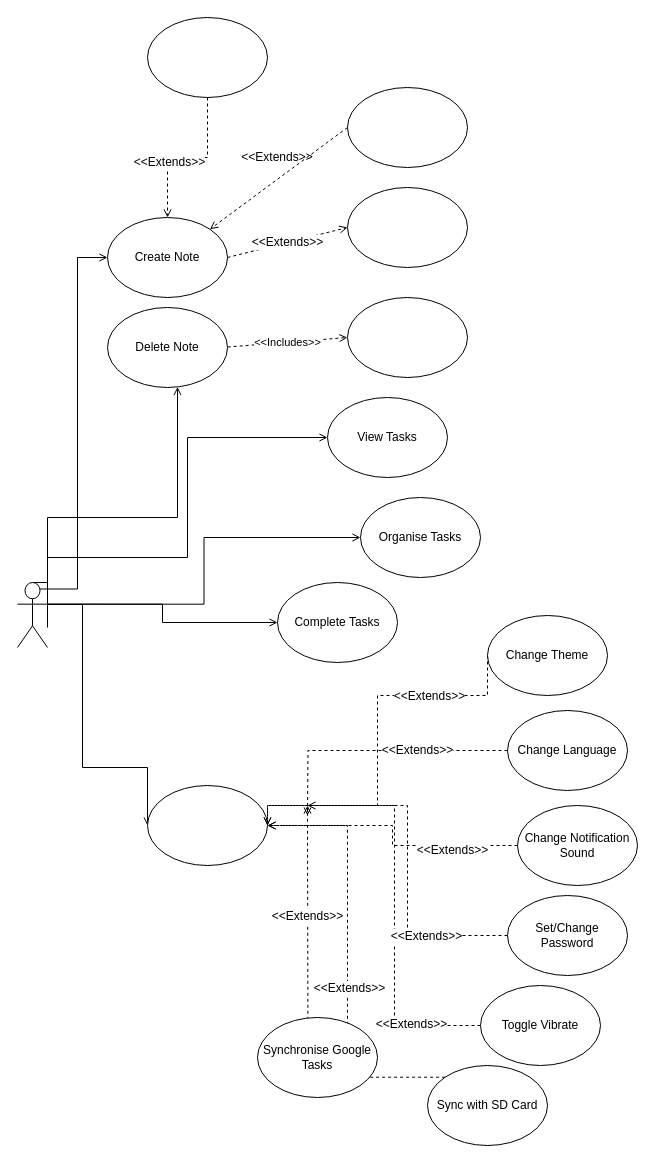
This 655x1163 diagram has some shape labels left out. The shapes that lost their labels are listed below. From the top down, each one's centre as x and y in pixels, then its label:
At [207,57]: "Set Reminder".
At [407,127]: "Edit Text".
At [407,227]: "View Note".
At [407,337]: "ID of Note To Delete".
At [32,615]: "User".
At [207,825]: "Modify Settings".
